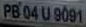character: (11, 3, 20, 18), (30, 5, 39, 20), (61, 5, 69, 21), (41, 6, 50, 20), (23, 4, 31, 19), (3, 3, 11, 17), (53, 7, 61, 21), (68, 8, 76, 22), (77, 9, 82, 22)
